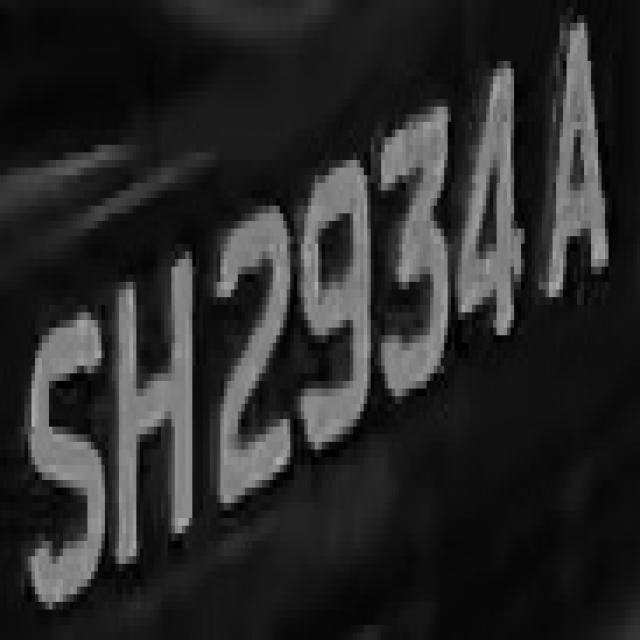2: (213, 168, 301, 518)
3: (371, 84, 458, 419)
4: (444, 46, 535, 381)
9: (294, 130, 384, 457)
A: (546, 0, 619, 335)
H: (101, 244, 210, 579)
S: (24, 290, 116, 624)
